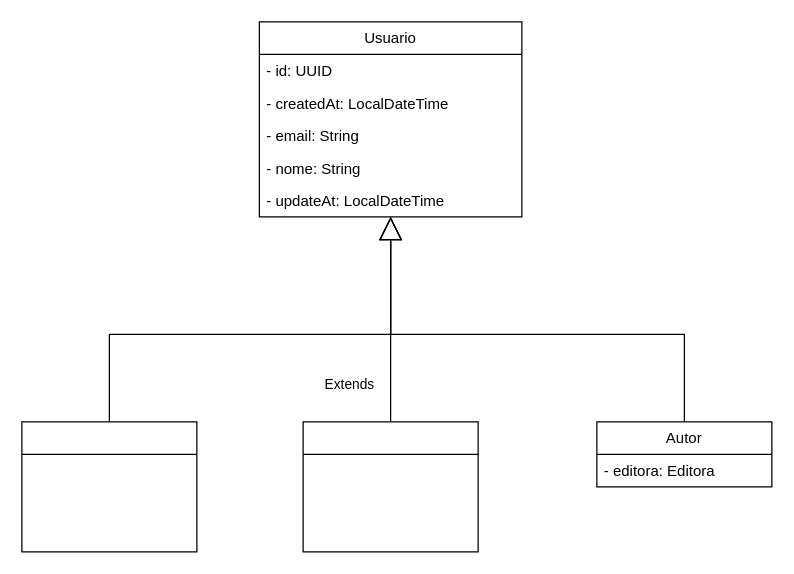
Some shapes in this 794 by 574 pixel diagram are drawn without their labels. Here are the shapes that lost their labels. From the top down, the centre of each, then its label:
At [109,486]: "Leitor".
At [390,486]: "Editora".
